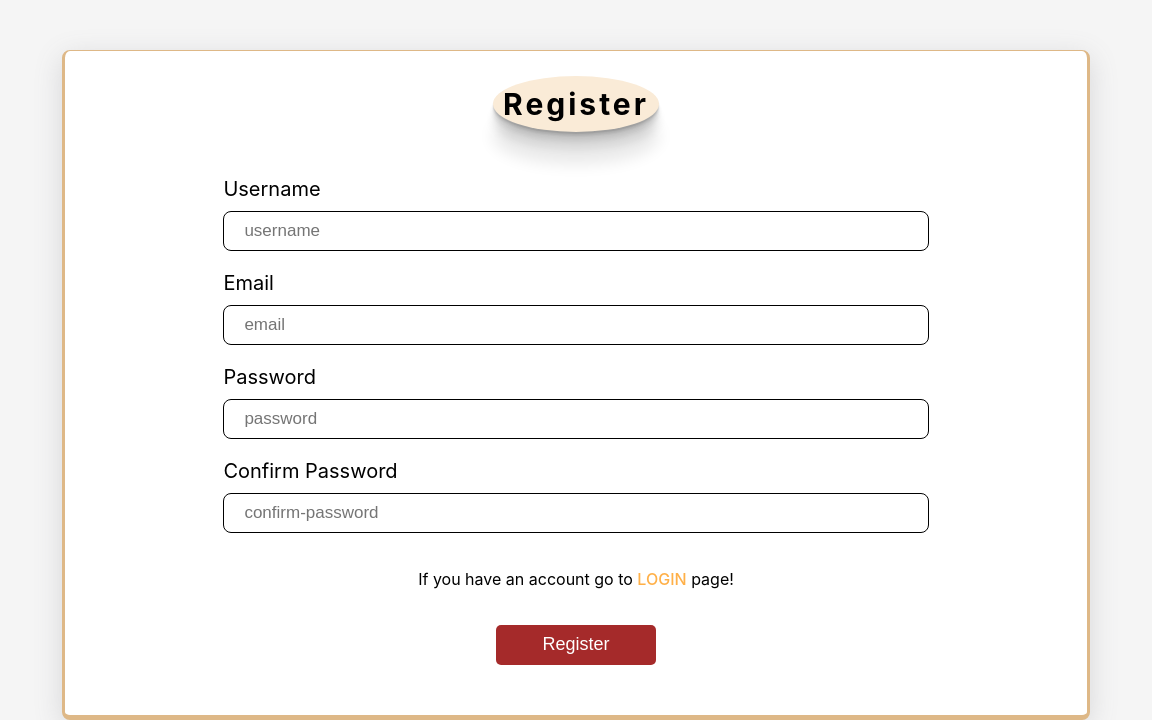
Test: Register Component › Check on blur if passwords don't match!
Type "123456" into the password field with test id "password". click: [576, 419]
box: [223,399,929,439]
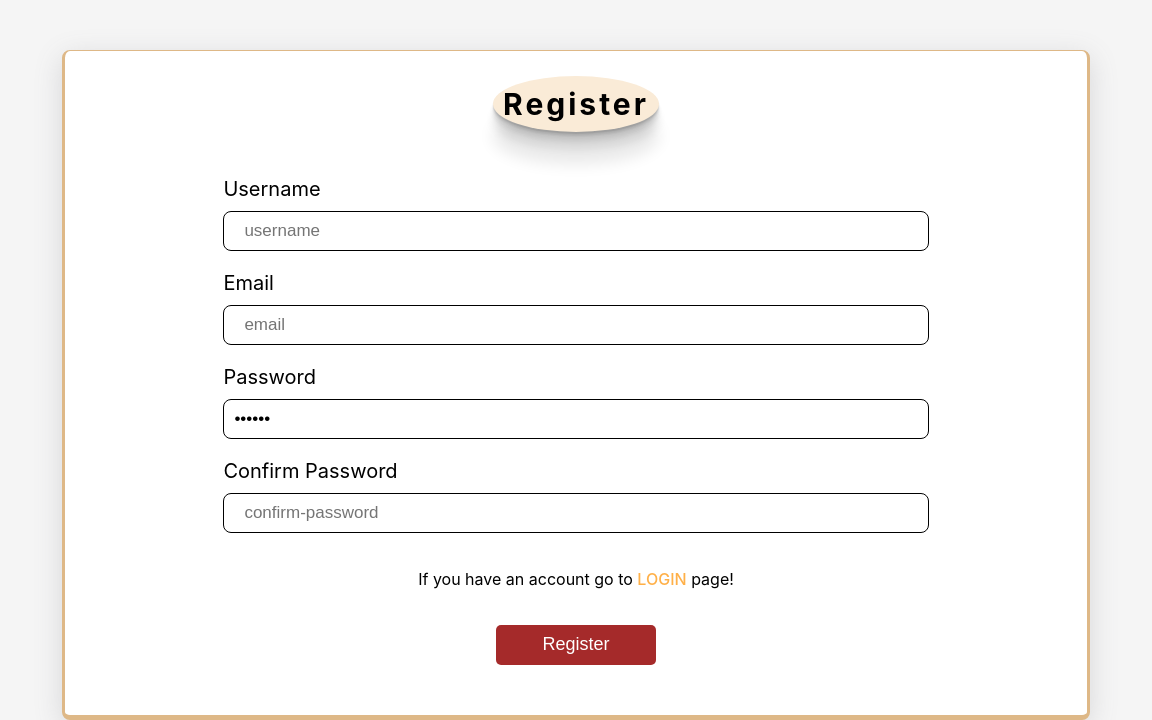
Type "123" into the password field with test id "repass". click: [576, 513]
box: [223,493,929,533]
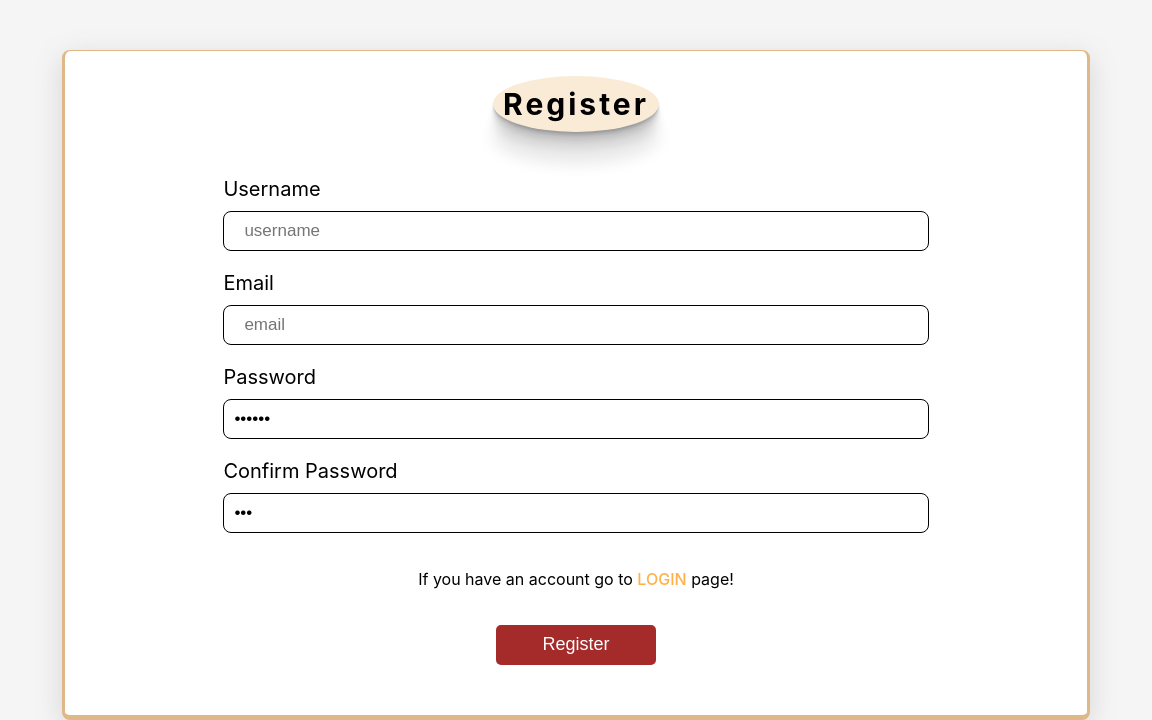
Leave the password field with test id "repass", box [223,493,929,533]
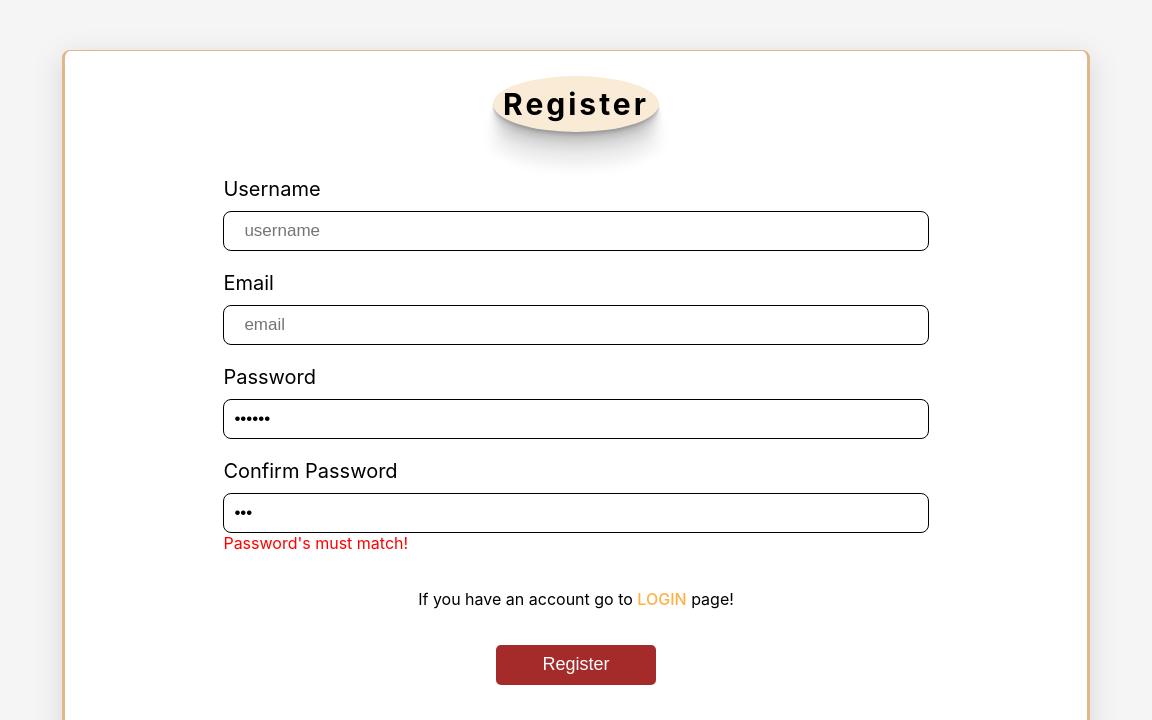
Check: the text "Password's must match!" is shown, box [223,533,408,553]
